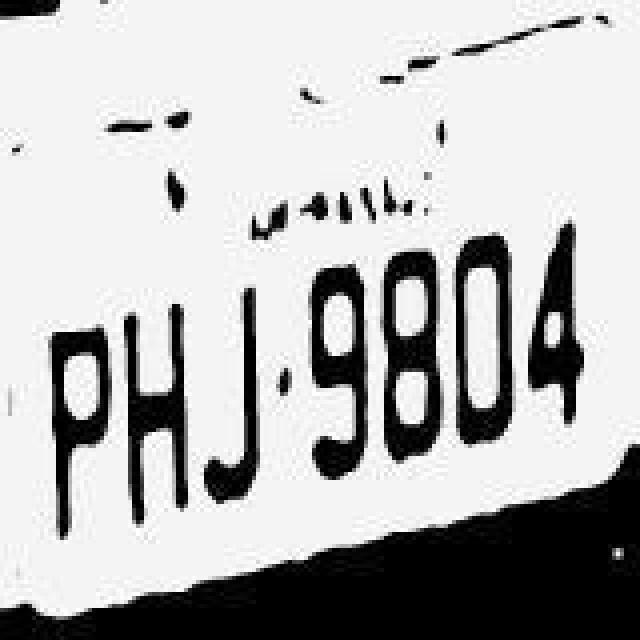4: (522, 188, 598, 452)
8: (384, 218, 456, 486)
9: (302, 230, 378, 498)
H: (122, 276, 198, 532)
J: (196, 252, 268, 516)
O: (452, 200, 524, 464)
P: (44, 282, 124, 550)
